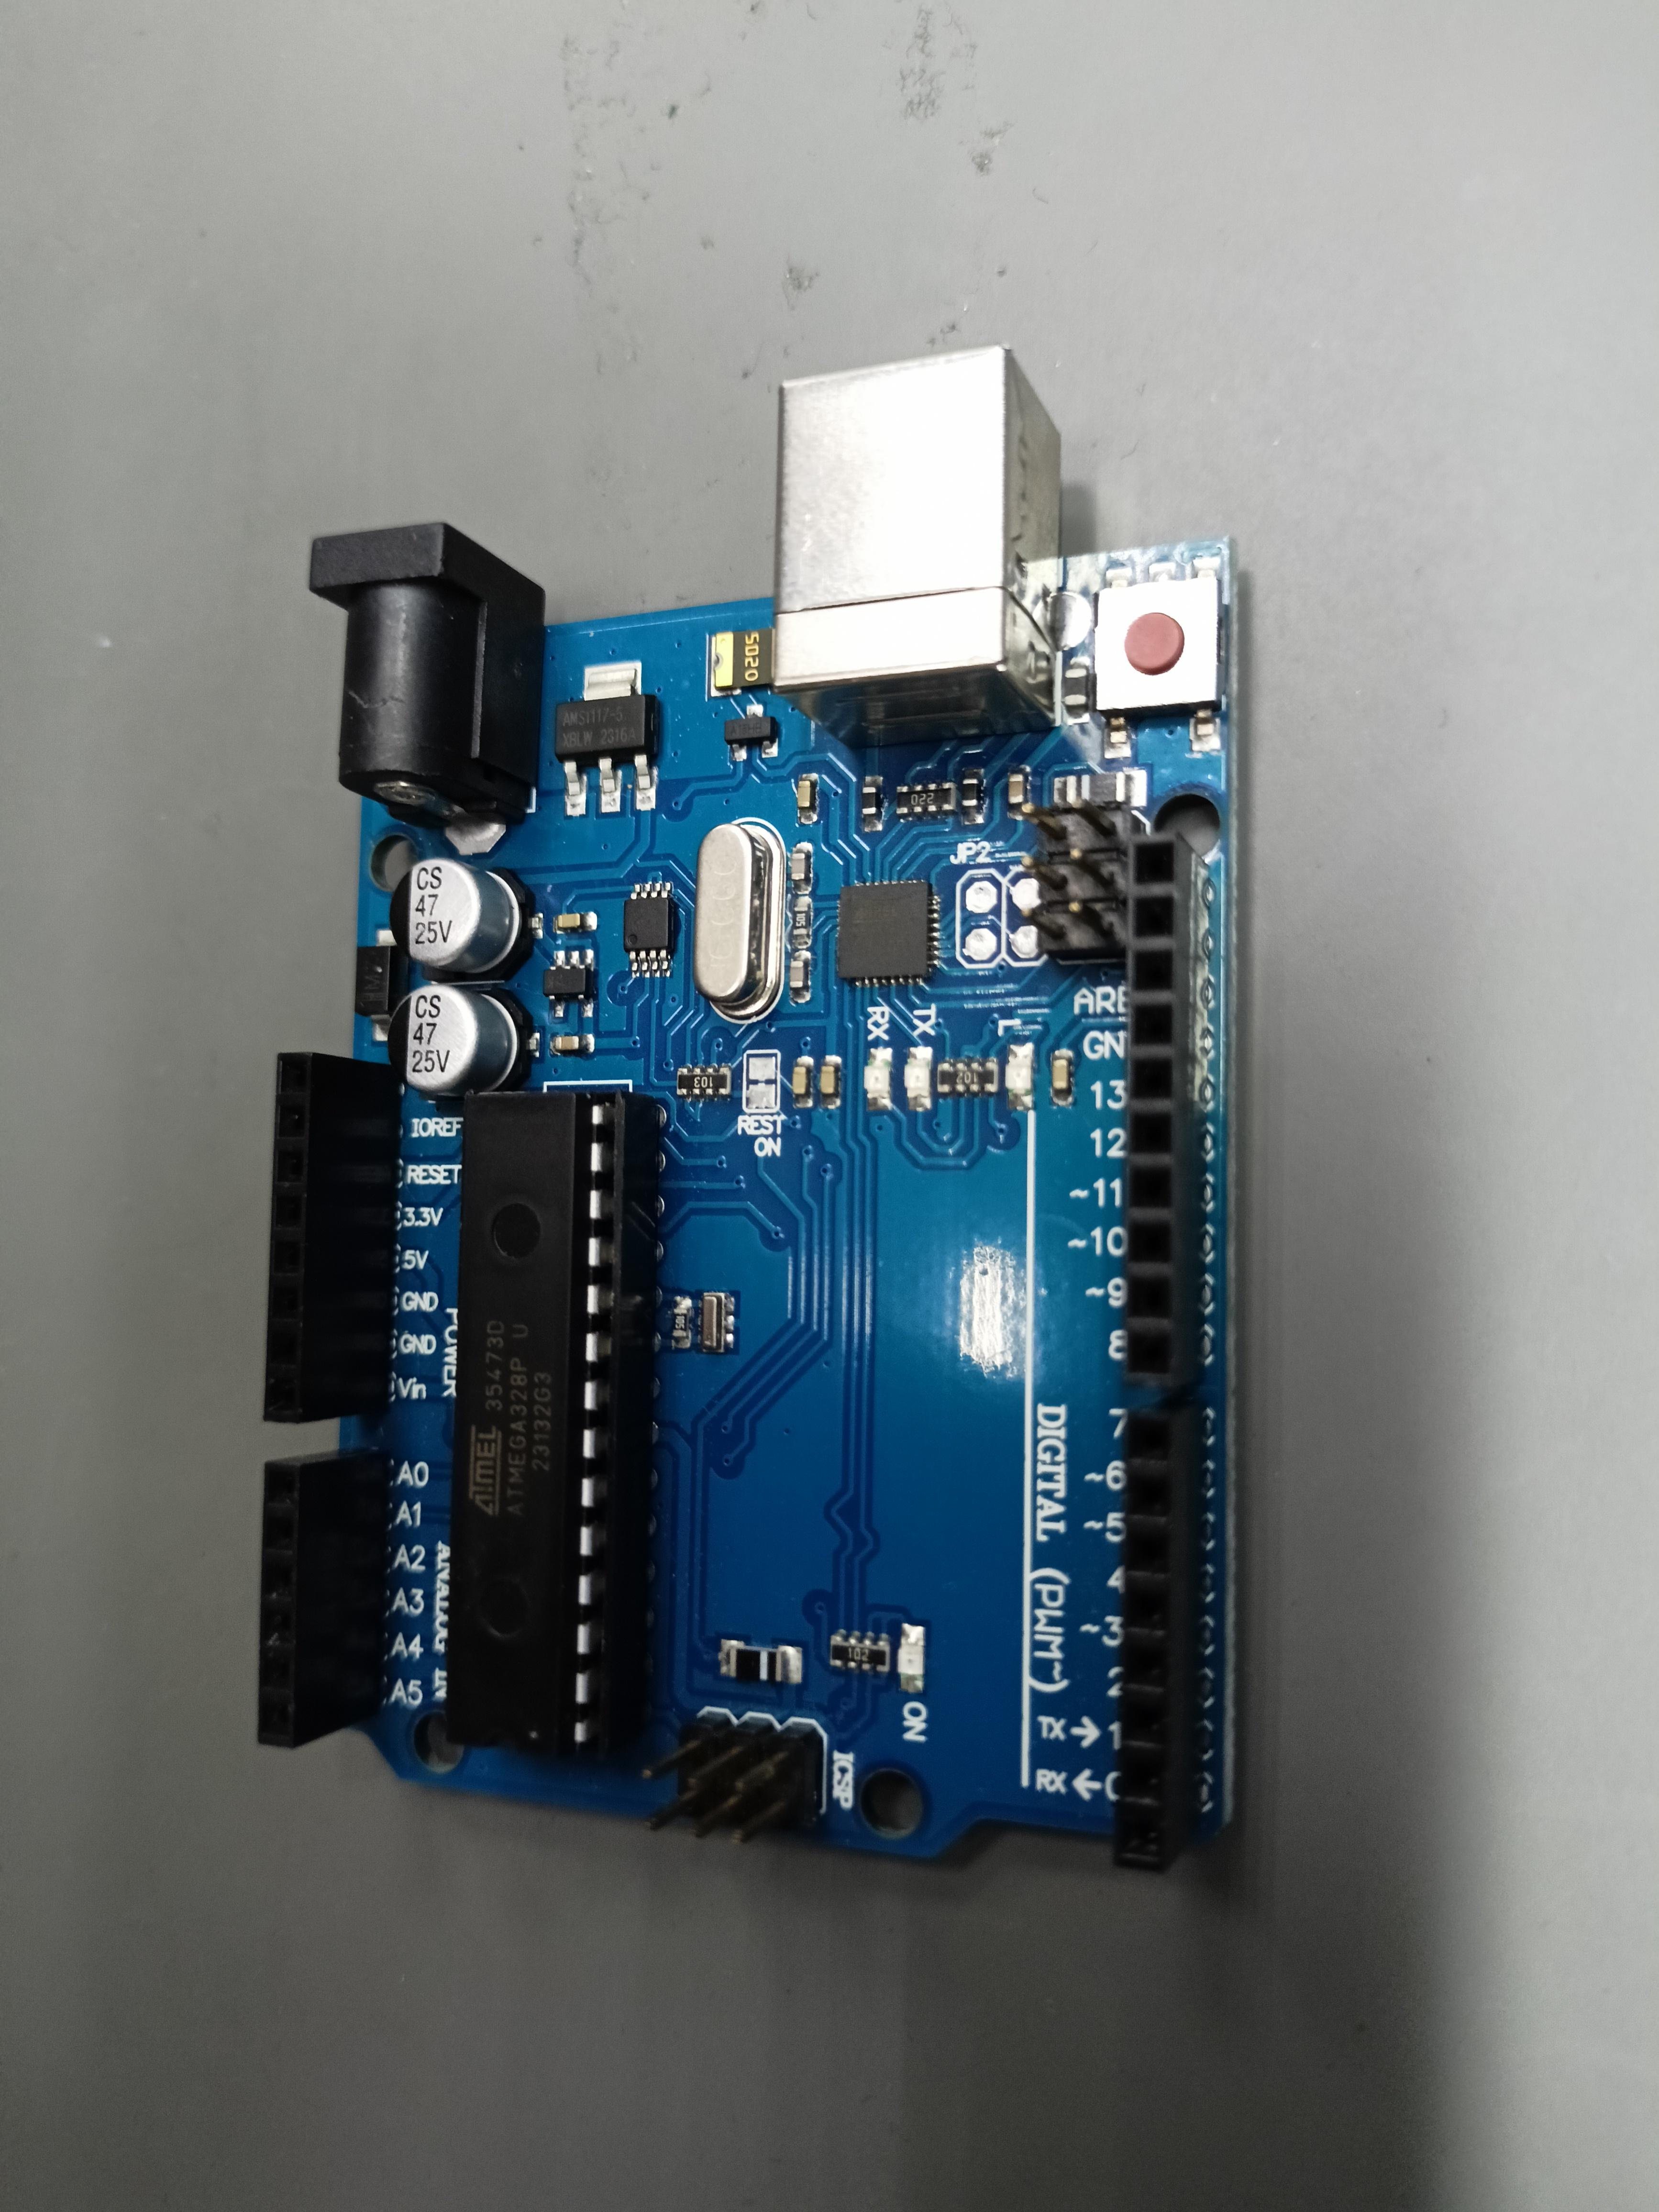ATmega328 chip: (443, 1092, 662, 1757)
Arduino board: (258, 345, 1239, 1876)
USB: (770, 347, 1060, 751)
capacitor: (389, 857, 521, 974), (389, 984, 519, 1097)
pins: (261, 1052, 399, 1423), (1124, 831, 1209, 1388), (1112, 1399, 1202, 1876), (258, 1449, 387, 1749)
resistor: (828, 1635, 889, 1672), (896, 784, 958, 815), (938, 1061, 999, 1092), (678, 1068, 730, 1097)
